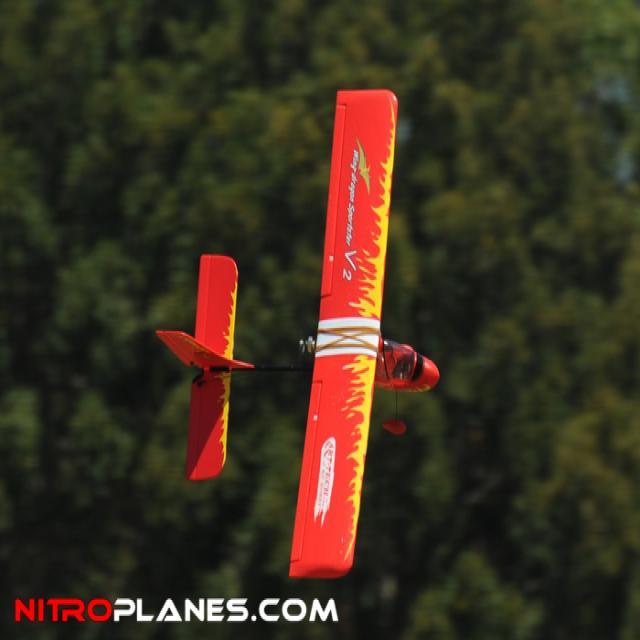iha: (152, 86, 440, 584)
